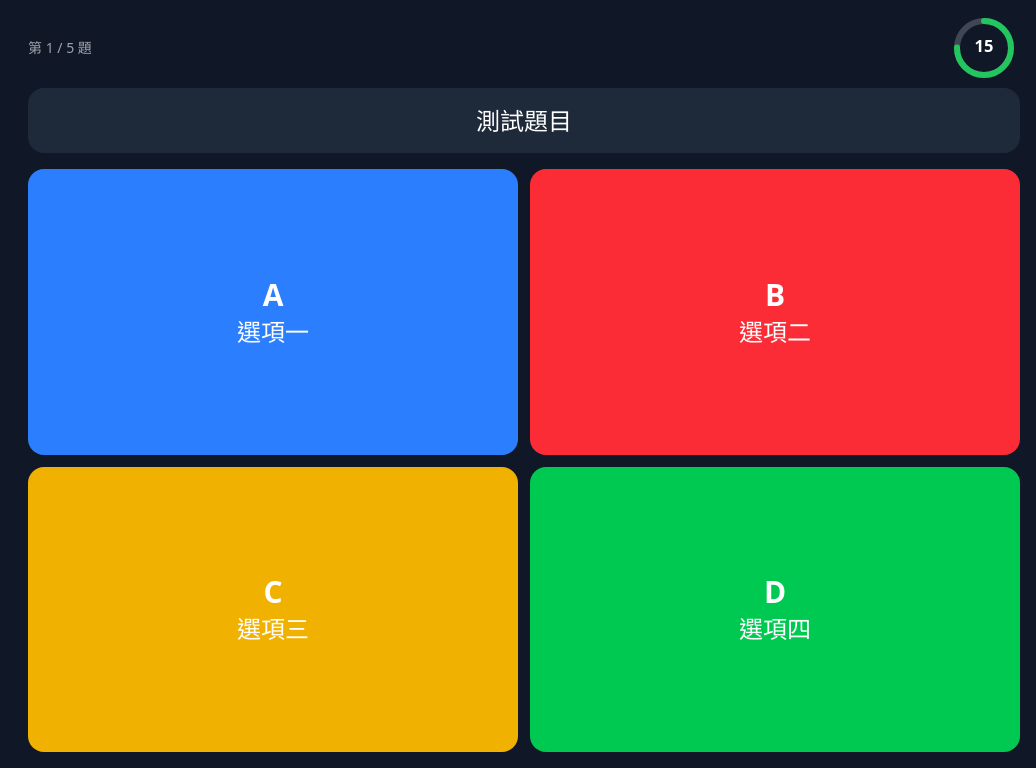
Test case: AnswerPad › disables all buttons after answering
Step 1. Click the button with aria-label "選項 A" → (273,312), box [28, 169, 518, 454]
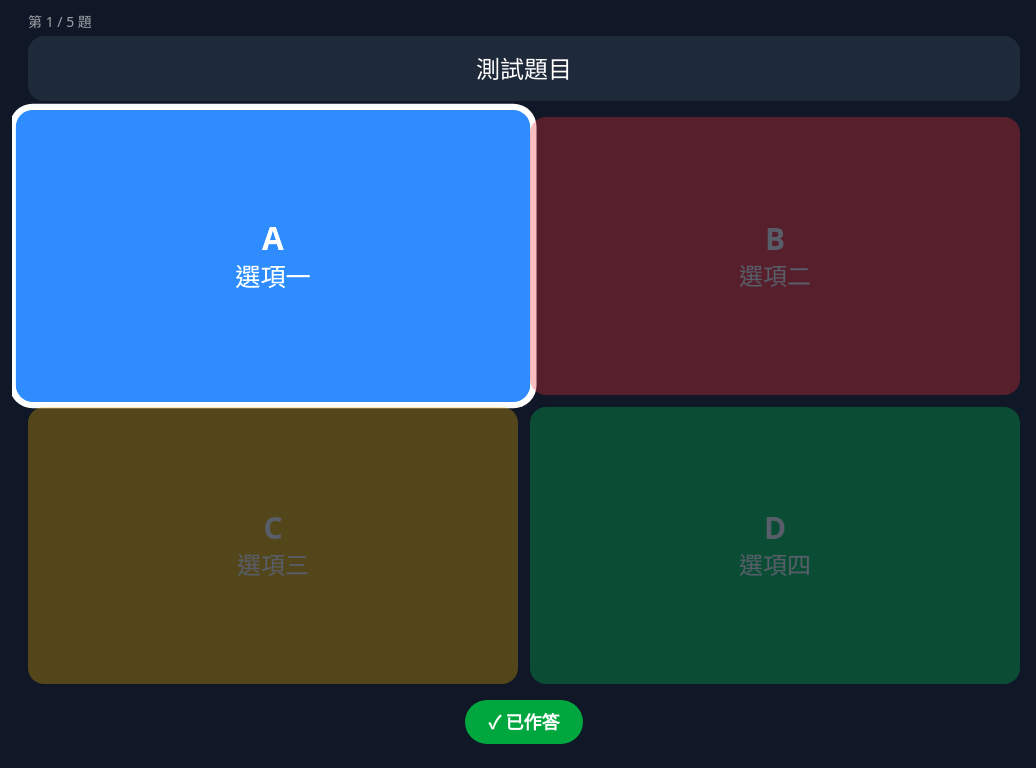
Result: the button with aria-label "選項 B" is disabled at [530, 117, 1020, 394]
Result: the button with aria-label "選項 C" is disabled at [28, 406, 518, 684]
